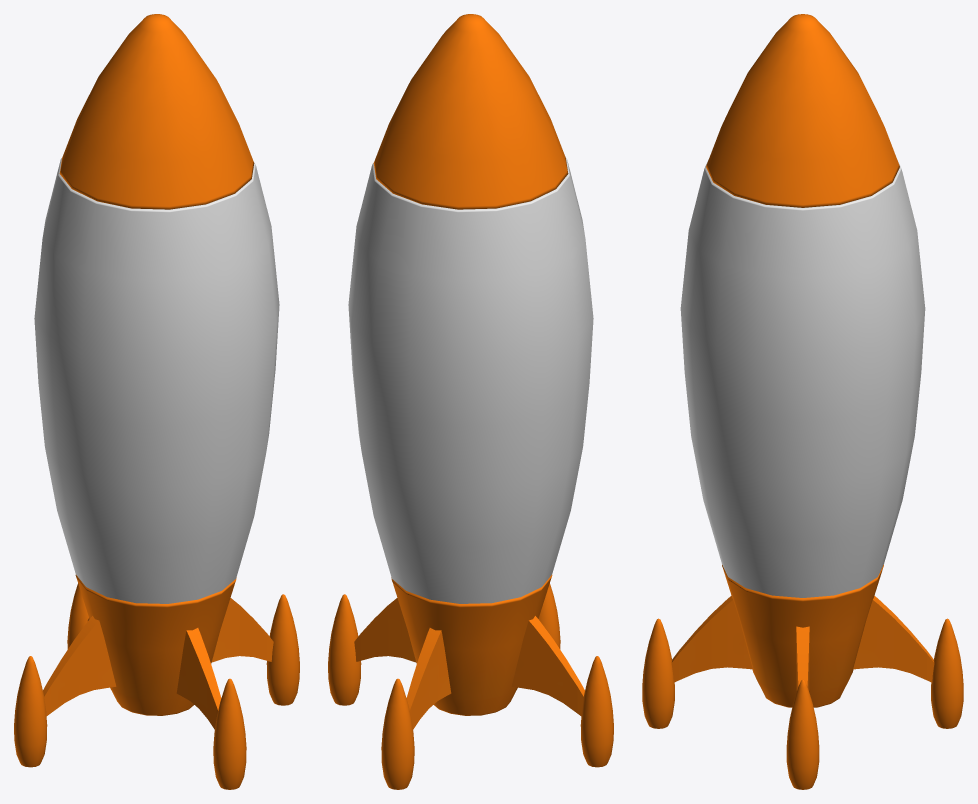
Rendered from ToyRocketYellow.fbx.
3 renders of one model, left to right at view 1: azimuth 30°, elevation 25°; view 2: azimuth 150°, elevation 25°; view 3: azimuth 270°, elevation 25°, orthographic.
Parts seen in each view (by area): view 1: Rocket, RocketCaps; view 2: Rocket, RocketCaps; view 3: Rocket, RocketCaps.
Boxes of the visible parts, left/top/right/bottom form: Rocket: left=34, top=158, right=279, bottom=603; RocketCaps: left=14, top=14, right=299, bottom=789; Rocket: left=348, top=158, right=593, bottom=603; RocketCaps: left=328, top=14, right=613, bottom=789; Rocket: left=680, top=159, right=925, bottom=597; RocketCaps: left=642, top=14, right=963, bottom=789.
Size of the model in its own units: 3.11 by 7.56 by 3.11.
